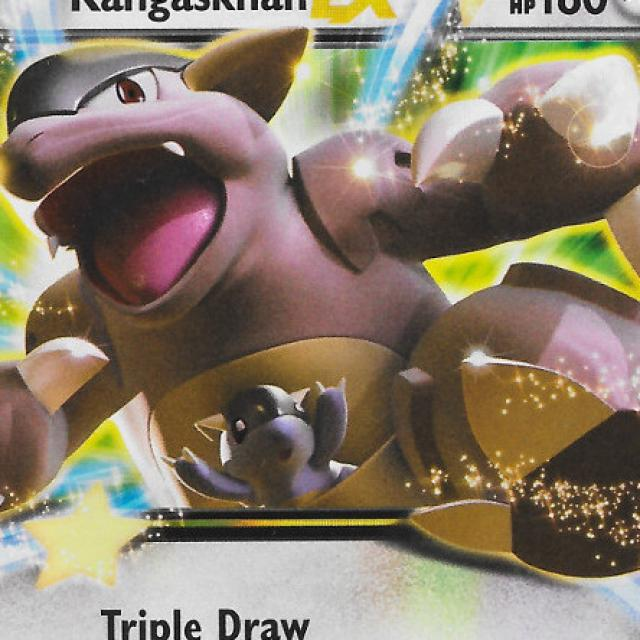Kangaskhan: (0, 33, 640, 569)
